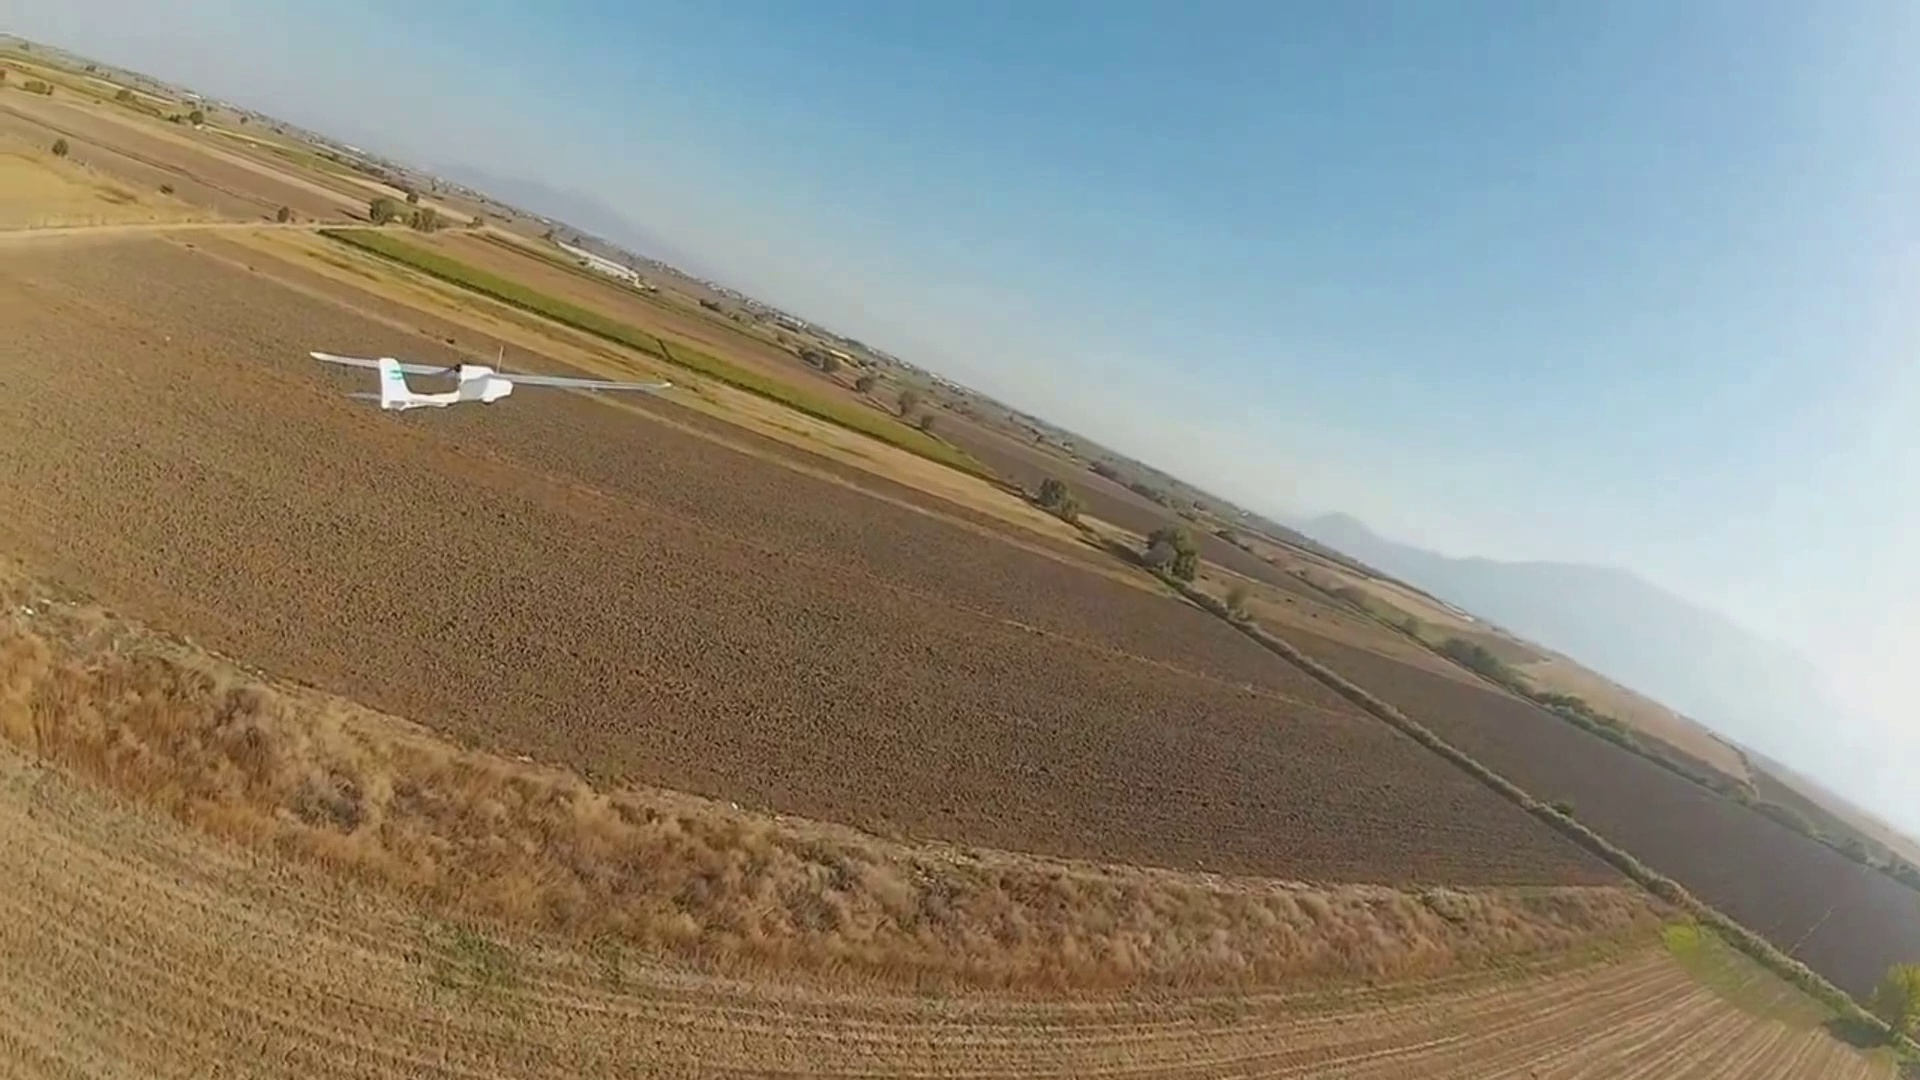airplane: (306, 348, 517, 411)
